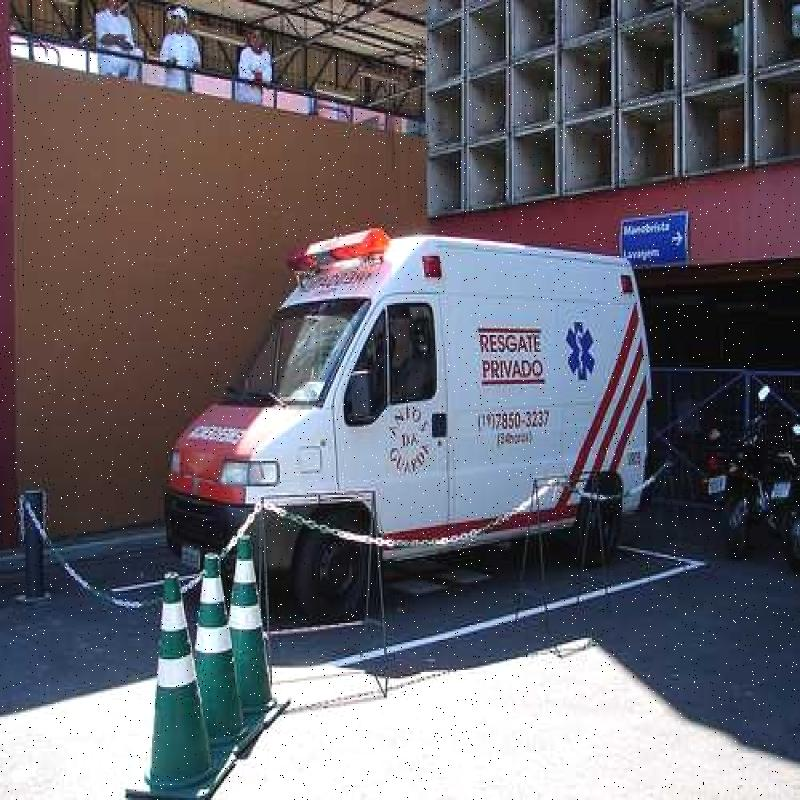AmbulanceSiren: (280, 218, 384, 294)
